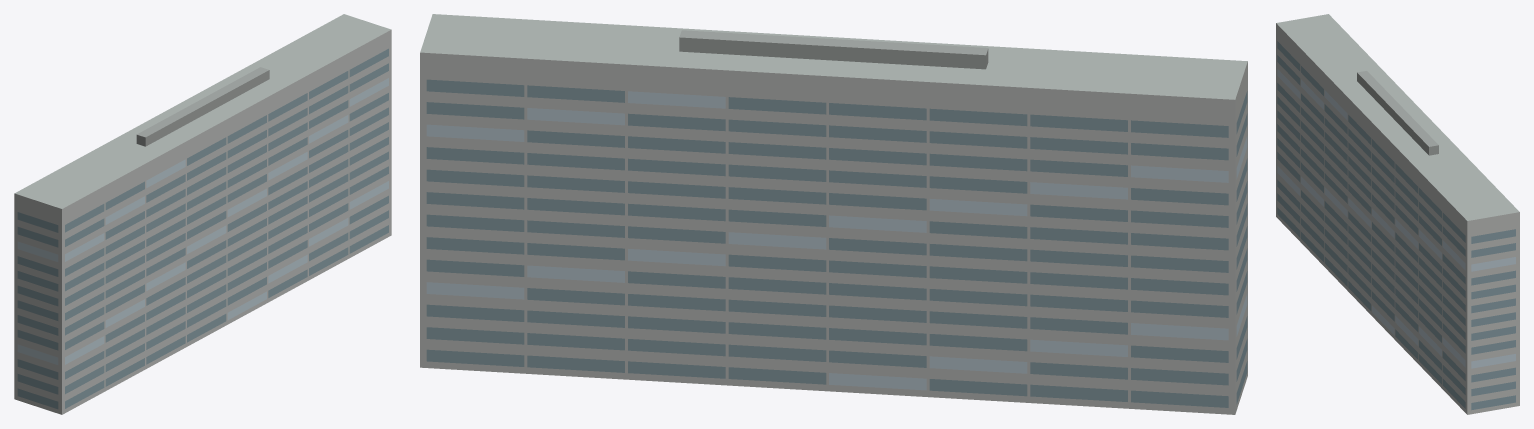
The model's file is fallback-daechi-eunma-20.glb.
The picture shows the model from 3 angles, left to right: view 1: azimuth 30°, elevation 25°; view 2: azimuth 150°, elevation 25°; view 3: azimuth 270°, elevation 25°; orthographic projection. The views are drawn at different scales.
Visible parts, largest first — view 1: fallback-daechi-eunma-20; view 2: fallback-daechi-eunma-20; view 3: fallback-daechi-eunma-20.
Part boxes in pixels (box(x1,y1,x2,y2)): fallback-daechi-eunma-20: box(14, 14, 391, 414); fallback-daechi-eunma-20: box(420, 14, 1247, 414); fallback-daechi-eunma-20: box(1276, 14, 1519, 414).
Bounding box in the file's own units: 97.84 × 44.62 × 48.66.
